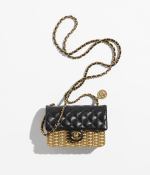channel: (45, 103, 112, 158), (69, 132, 85, 142)
